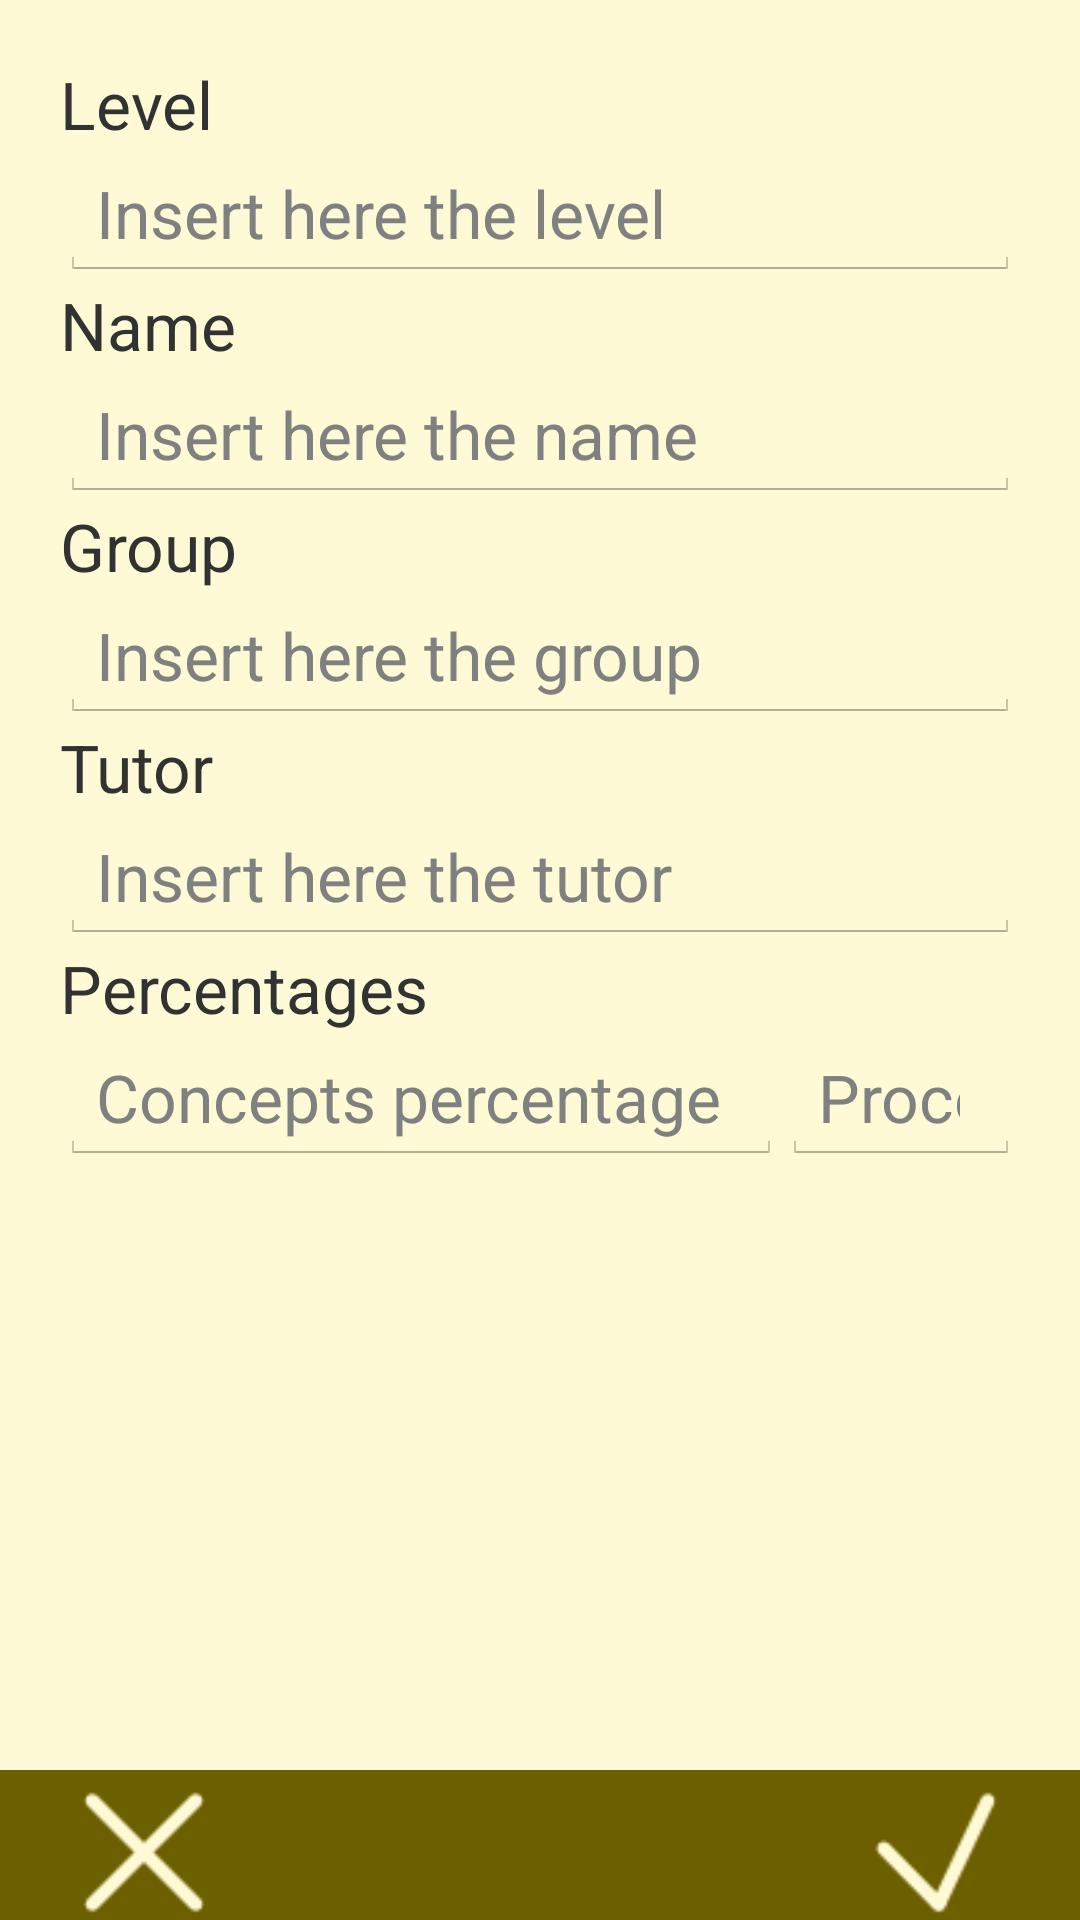

Where to tap for icons on this 1080×1920 app screen, as (x=x, y=y):
cancel: (x=143, y=1852)
